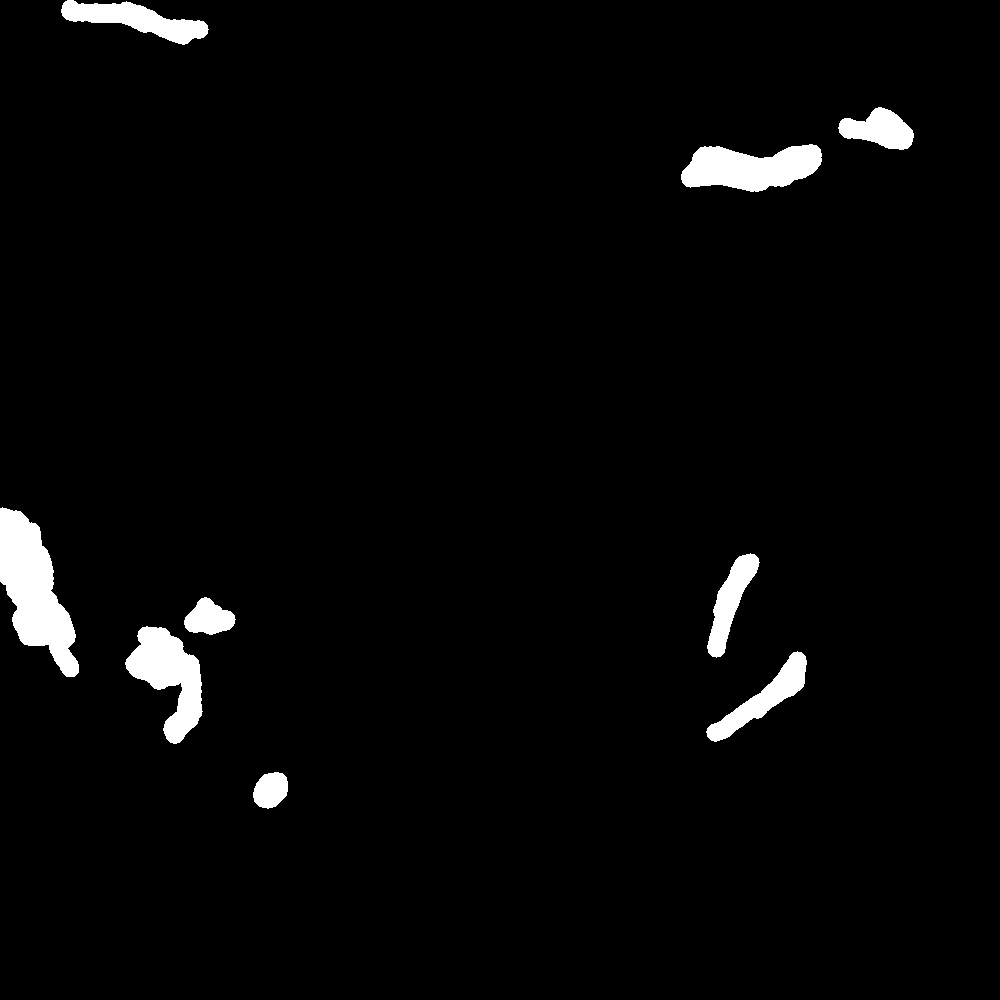illegal: (112, 602, 224, 740), (1, 511, 80, 685), (651, 152, 833, 190)
